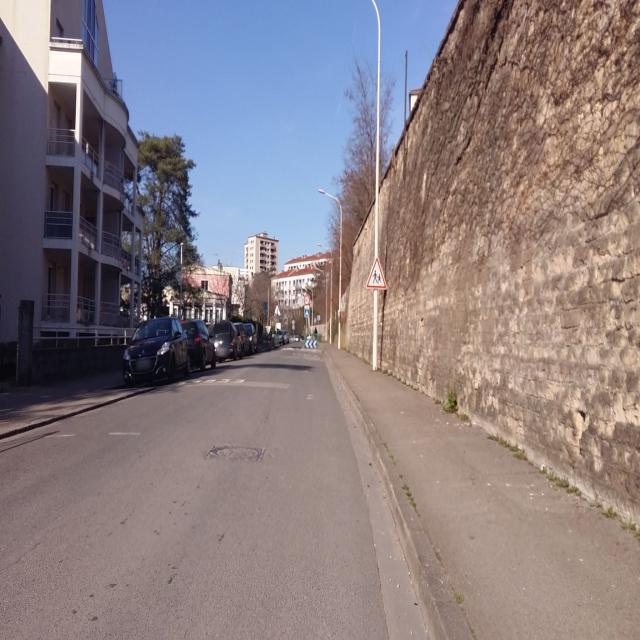car: (121, 315, 190, 387), (181, 317, 217, 371), (210, 319, 240, 362), (232, 321, 248, 357), (243, 321, 258, 354), (281, 332, 290, 346), (272, 333, 280, 348)
